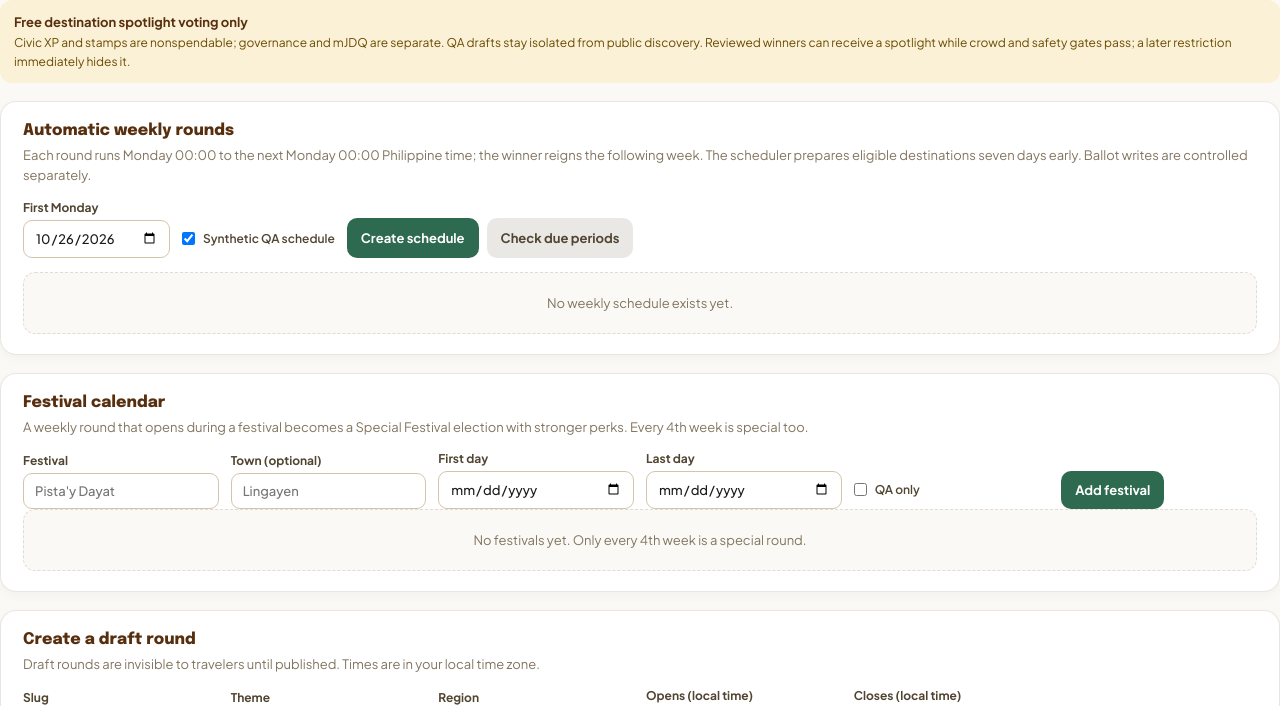
Test: Plan 65 weekly JuanChoice admin › adds and removes festivals
Check: the text "No festivals yet. Only every 4th week is a special round." is shown, box [23,509,1257,571]
Type "Bangus Festival" into the field labelled "Festival" at (121, 491), box [23,473,219,509]
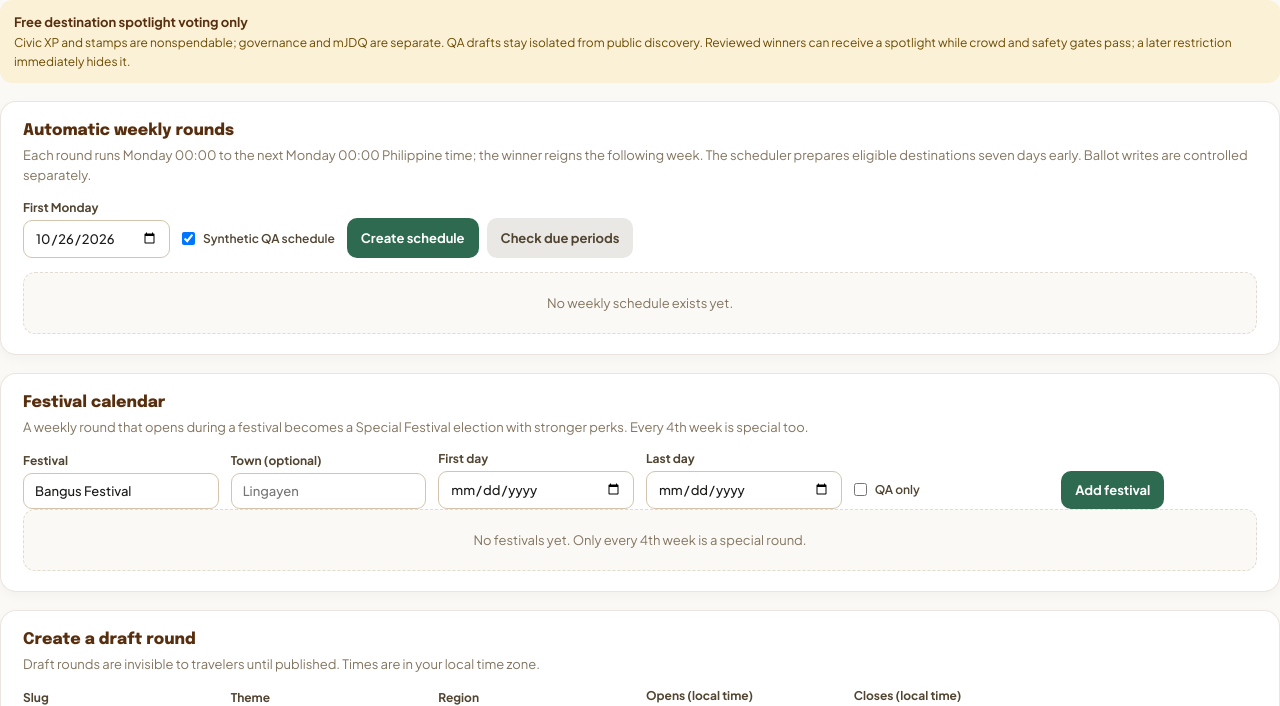
Type "Dagupan" into the field labelled "Town (optional)" at (329, 491), box [231,473,426,509]
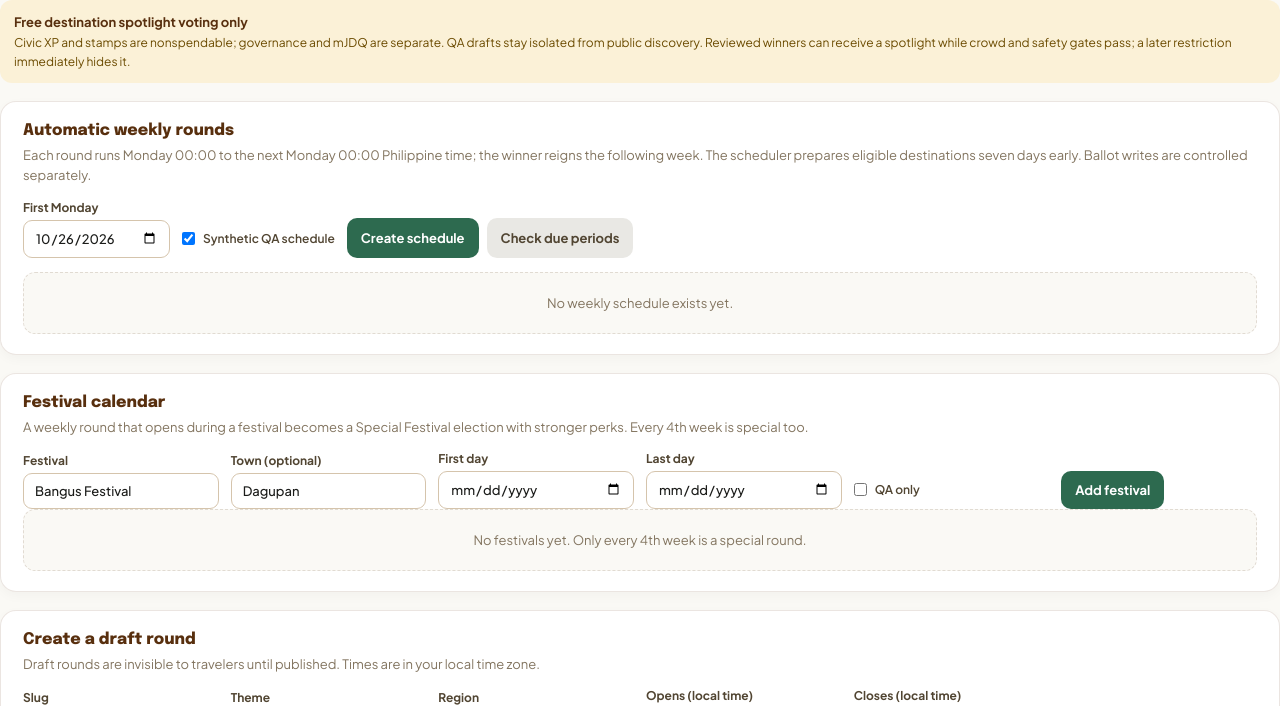
Type "2026-04-20" into the date field labelled "First day" at (536, 490), box [438,471,634,509]
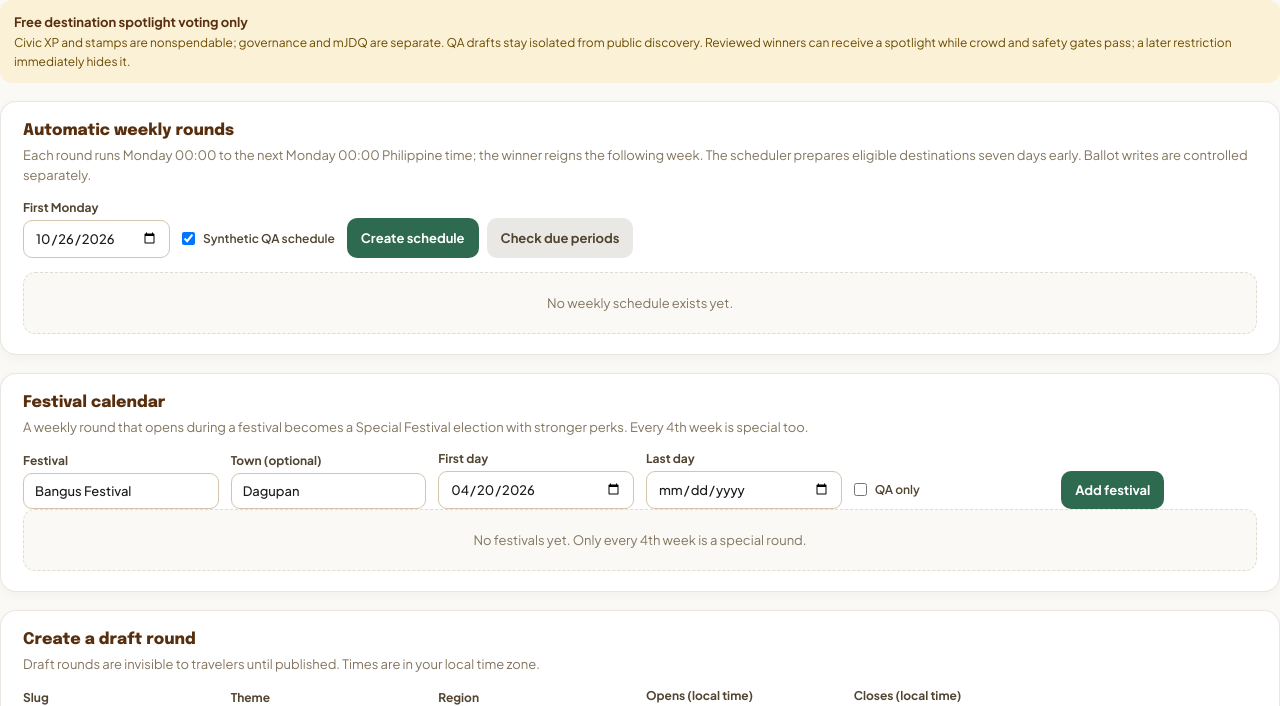
Type "2026-05-01" into the date field labelled "Last day" at (744, 490), box [646,471,842,509]
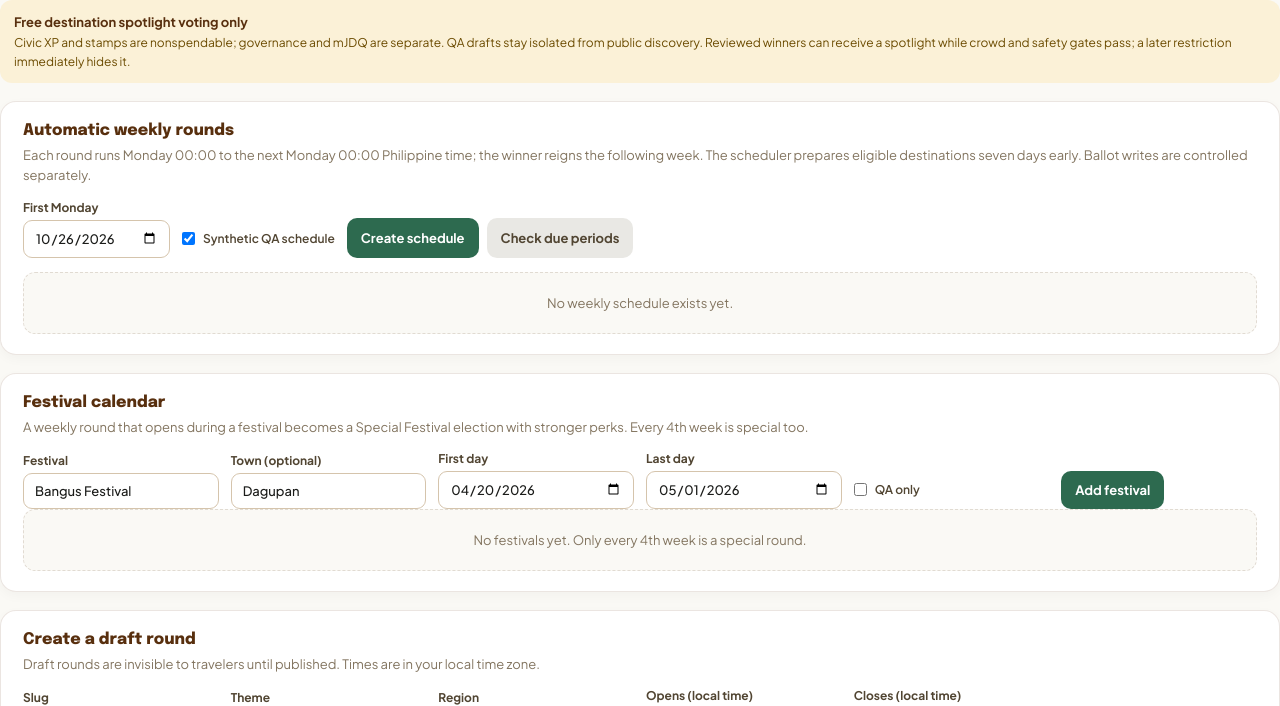
Click the button "Add festival" at (1113, 490), box [1061,471,1164,509]
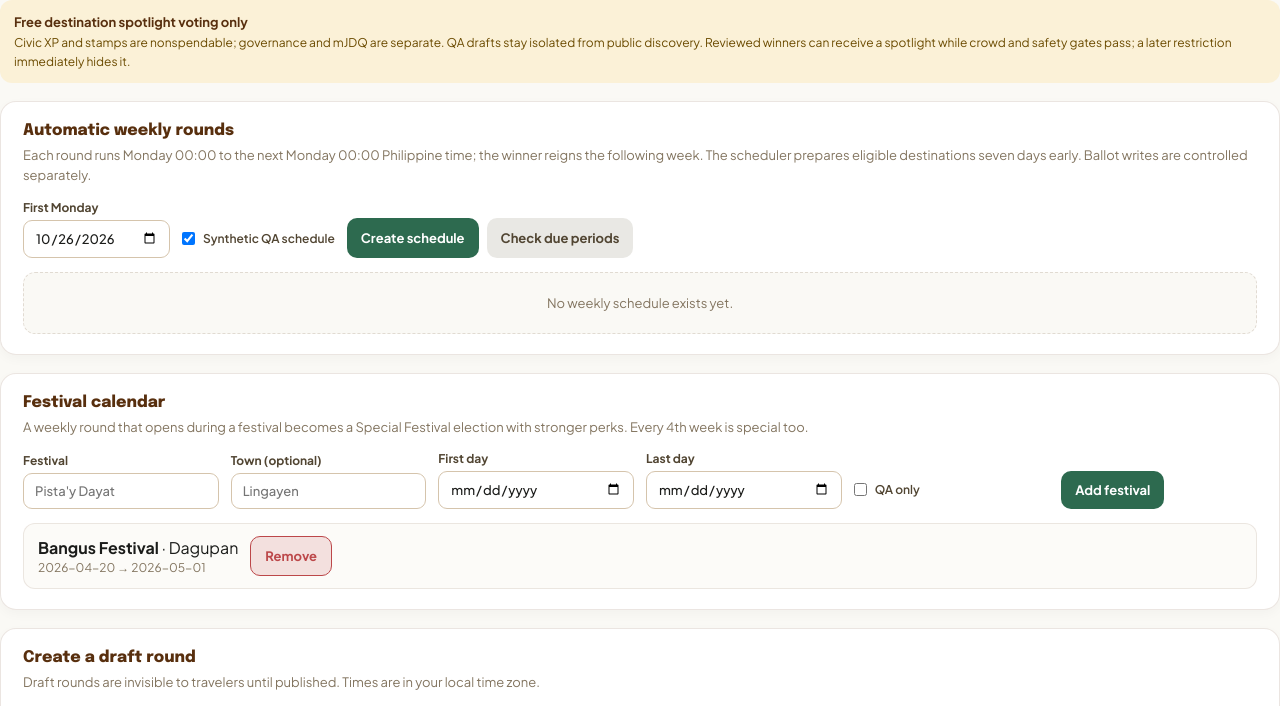
Check: the text "Bangus Festival" is shown, box [38,537,159,558]
Click the button "Remove" at (291, 556), box [250,536,332,576]
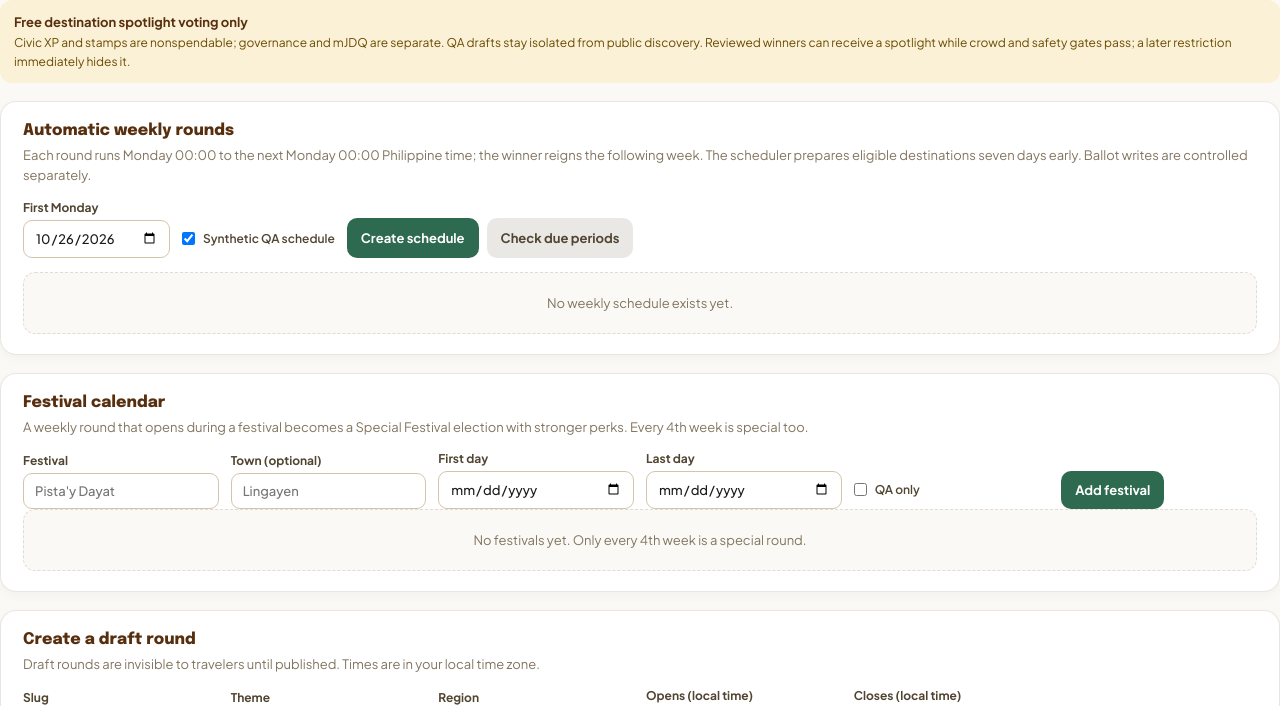
Check: the text "No festivals yet. Only every 4th week is a special round." is shown, box [23,509,1257,571]
